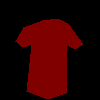abbigliamento_uomo: (15, 18, 83, 99)
